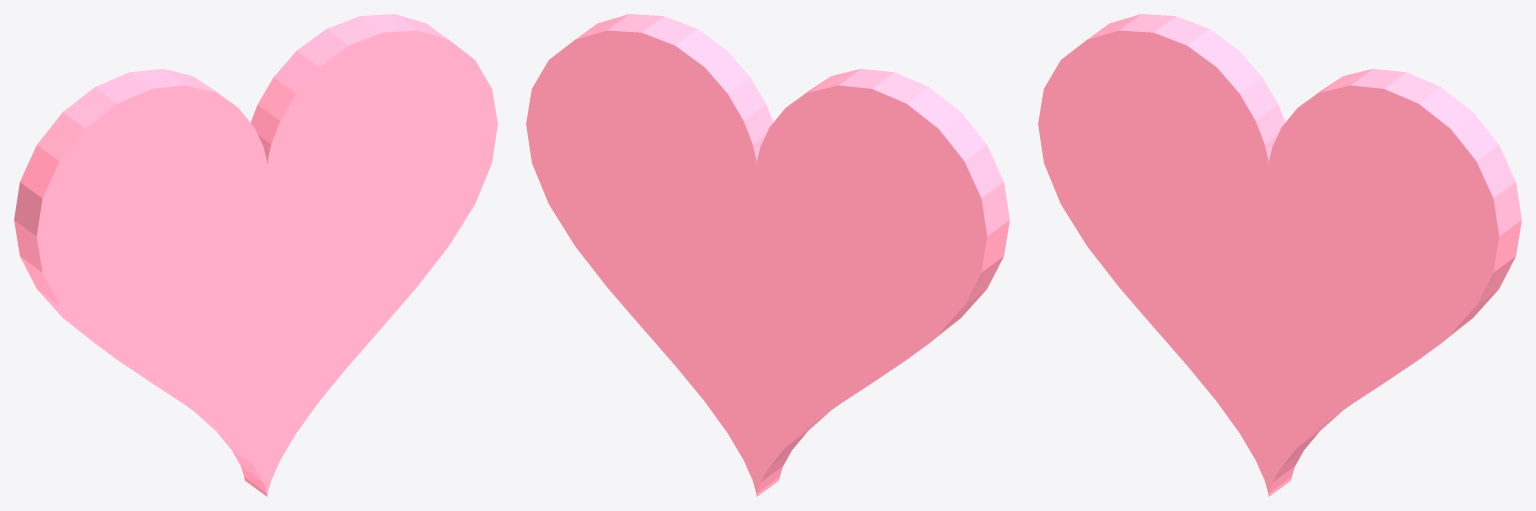
3 renders of one model, left to right at view 1: azimuth 30°, elevation 25°; view 2: azimuth 150°, elevation 25°; view 3: azimuth 330°, elevation 25°, orthographic.
Size of the model in its own units: 0.9412 by 0.8506 by 0.08.
